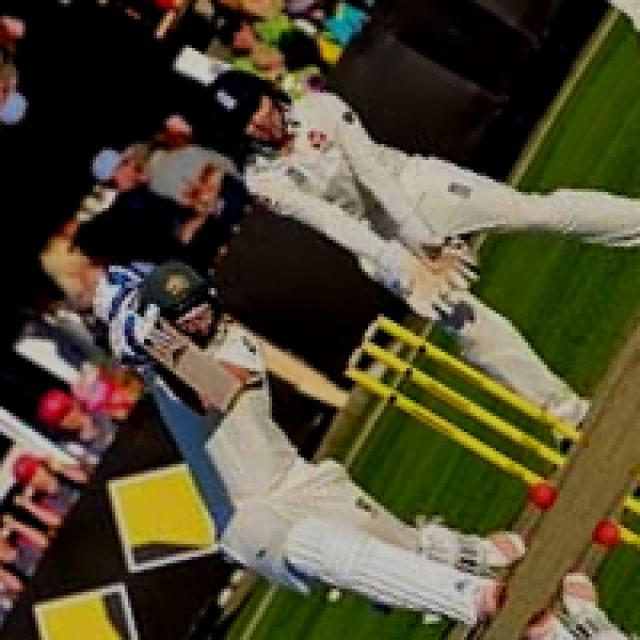bat: (109, 311, 261, 419)
toe: (219, 383, 245, 417)
